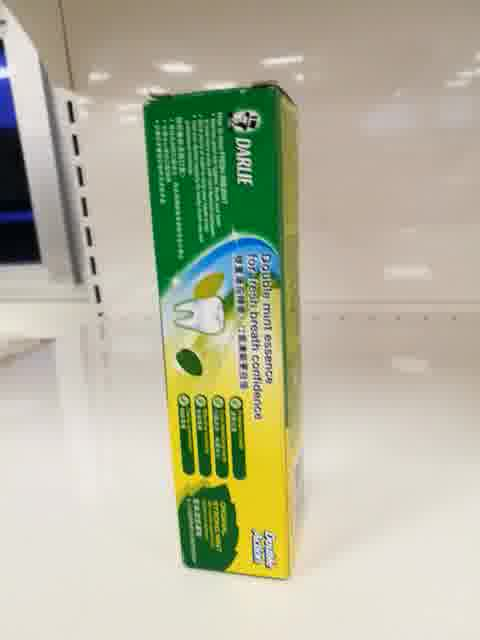toothpaste: (144, 80, 305, 583)
